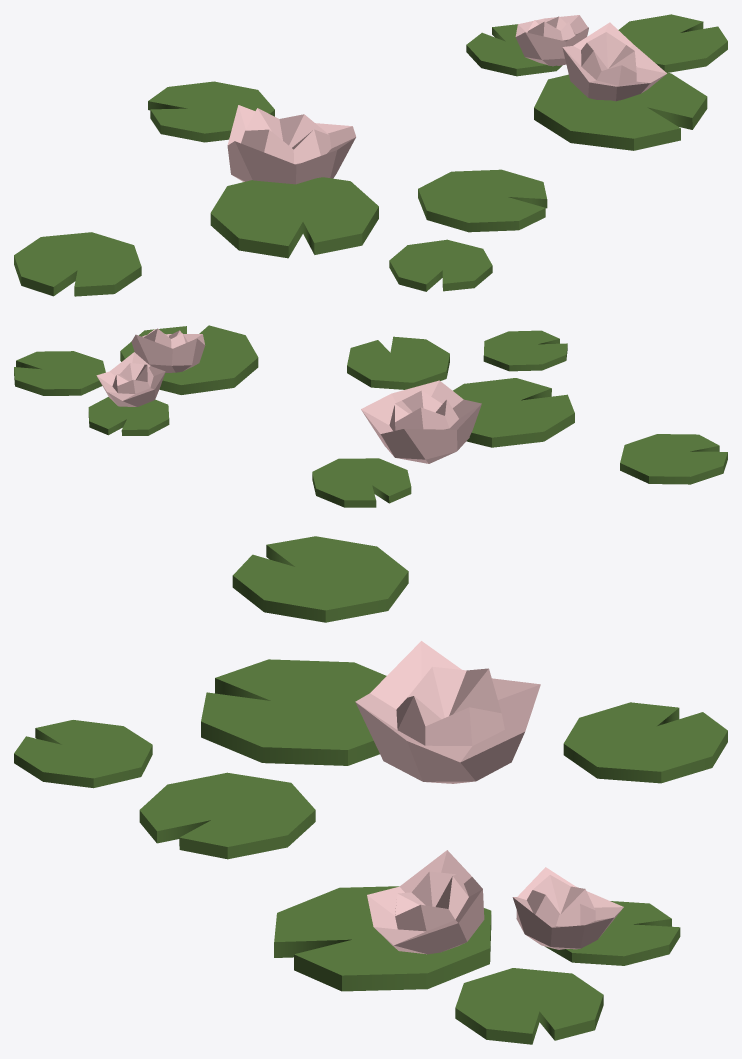
The model's file is SM_Env_Lillypads_03.gltf.
3 renders of one model, top to bottom at view 1: azimuth 30°, elevation 25°; view 2: azimuth 150°, elevation 25°; view 3: azimuth 270°, elevation 25°, orthographic. The views are drawn at different scales.
Visible parts, largest first — view 1: SM_Env_Lillypads_03; view 2: SM_Env_Lillypads_03; view 3: SM_Env_Lillypads_03.
Part boxes in pixels (left/top/right/bottom): SM_Env_Lillypads_03: left=14, top=14, right=727, bottom=296; SM_Env_Lillypads_03: left=14, top=325, right=727, bottom=507; SM_Env_Lillypads_03: left=14, top=536, right=727, bottom=1044.
Bounding box in the file's own units: 2.13 × 0.2165 × 1.29.
Materials: 1 (1 with a texture image).
